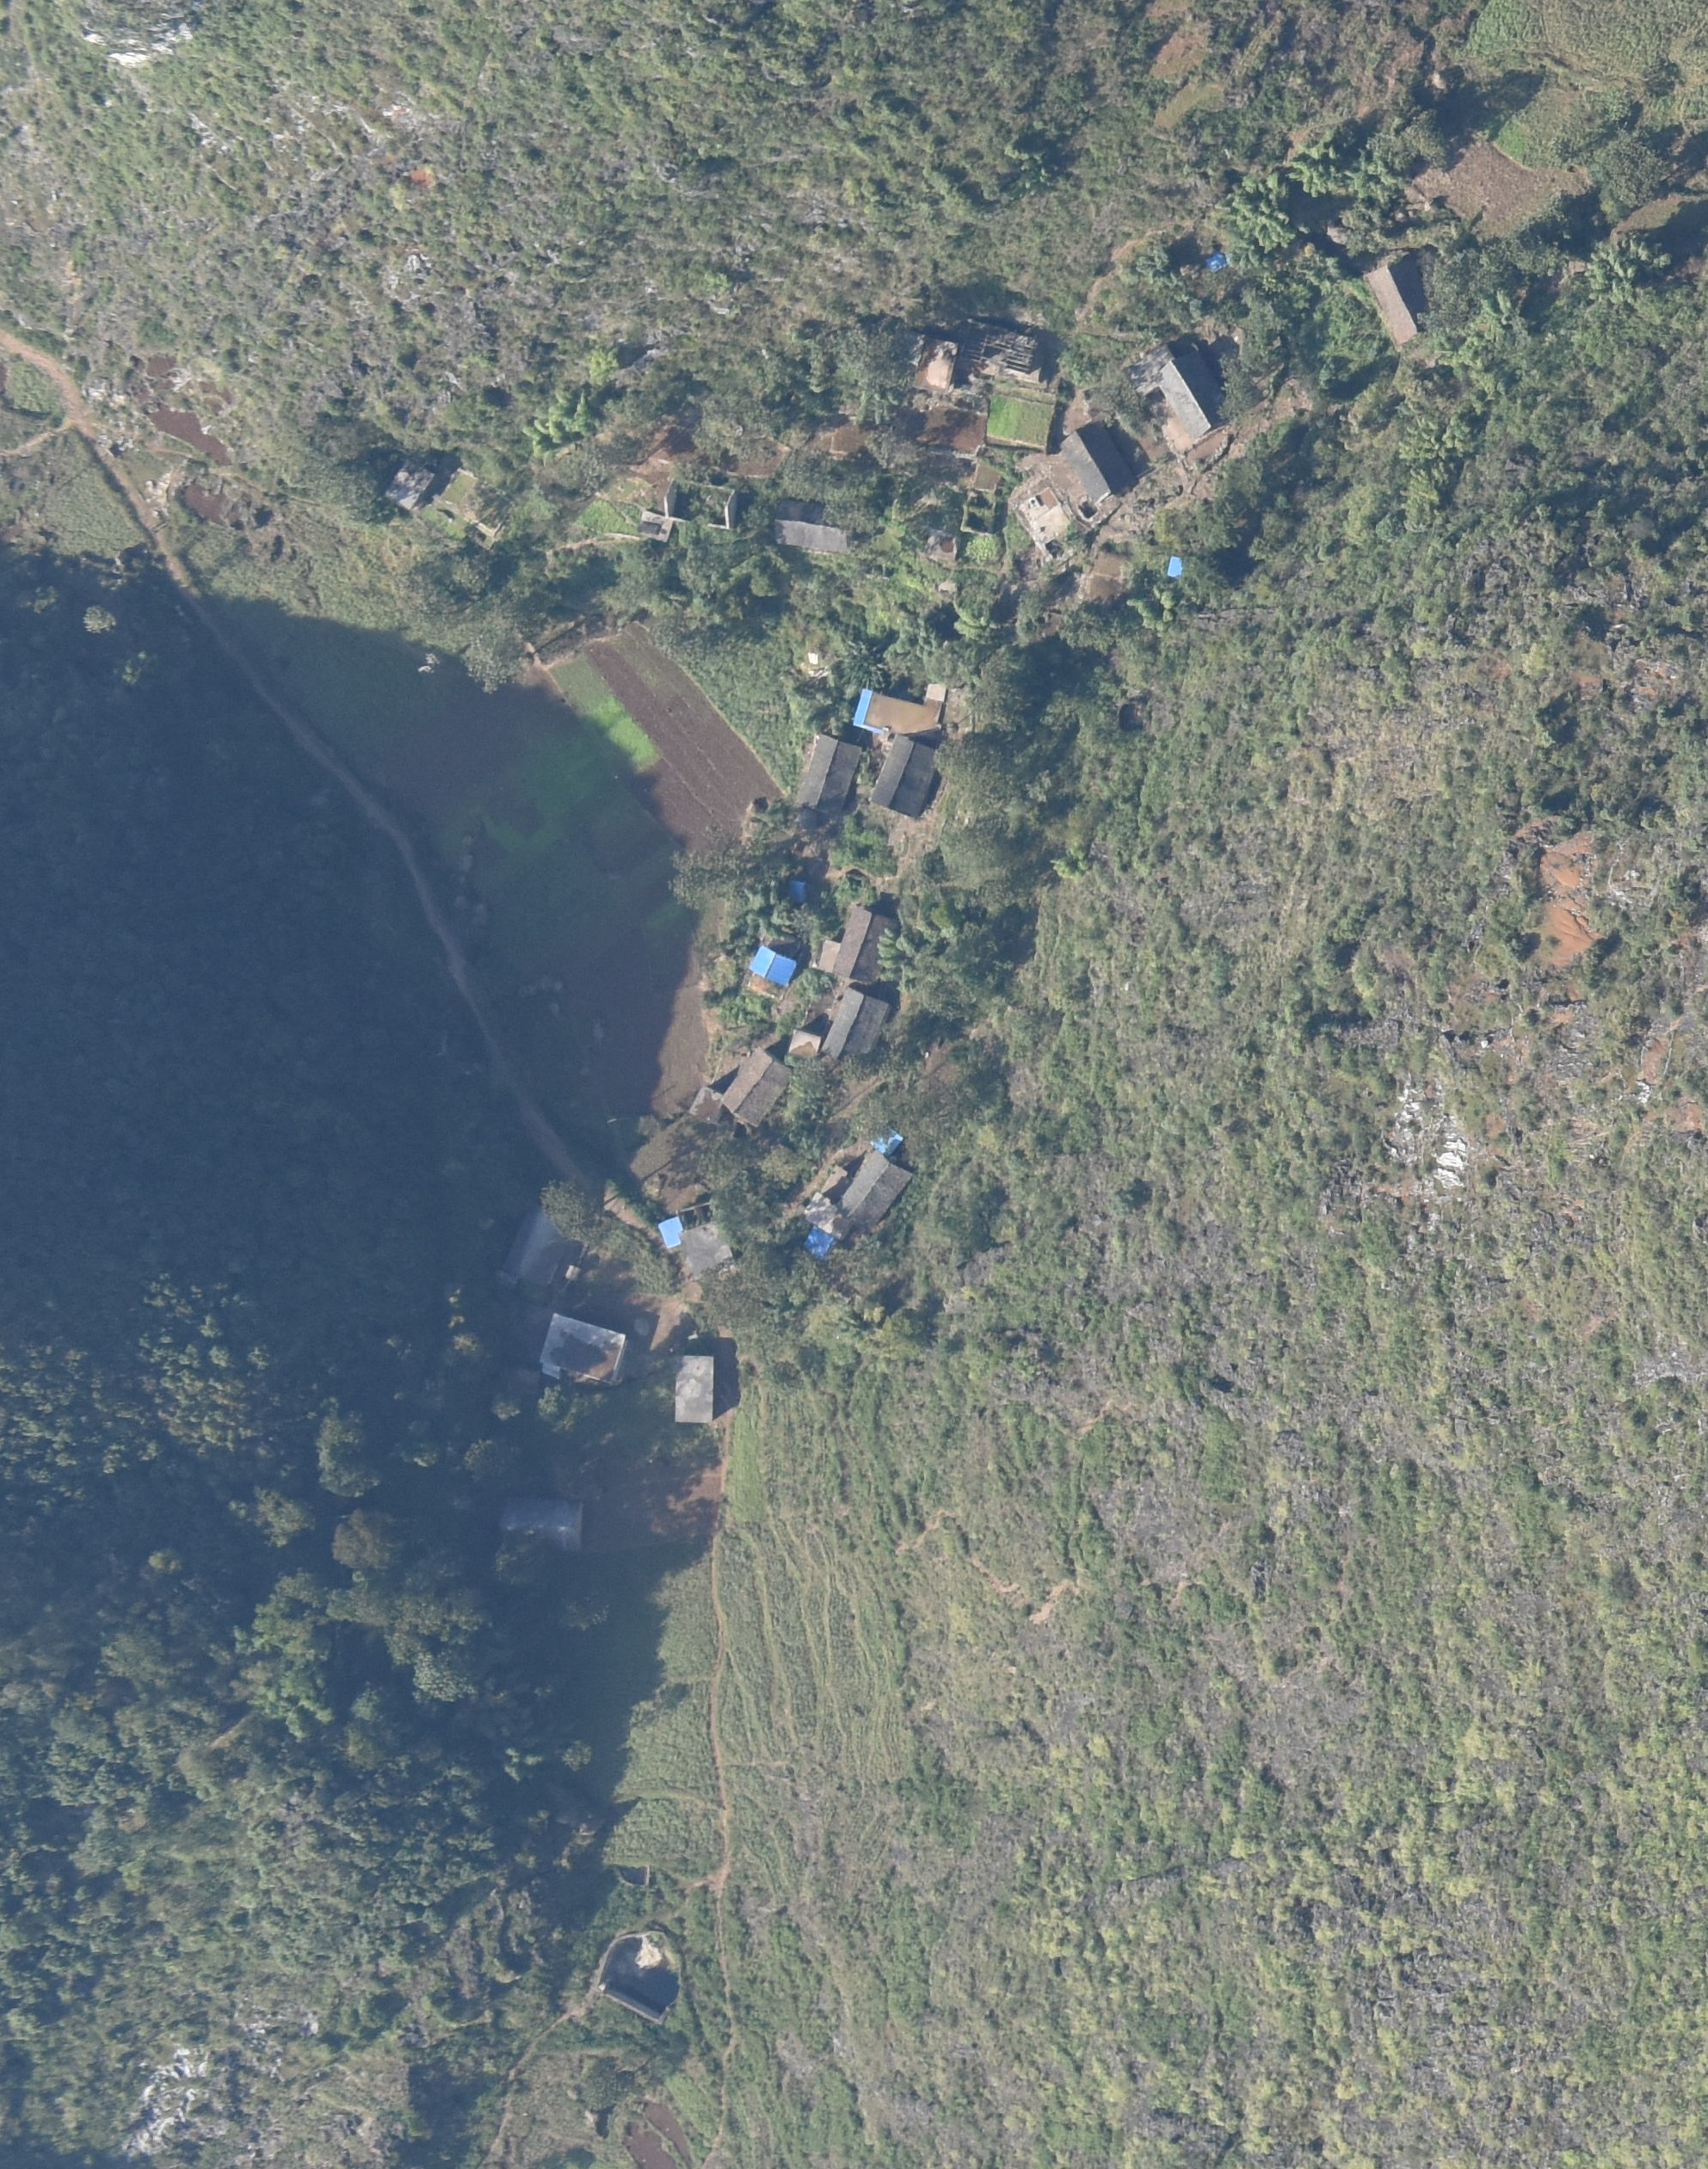building: (1141, 338, 1229, 437), (821, 900, 894, 984), (542, 1312, 623, 1386), (872, 739, 939, 822), (1060, 417, 1127, 496), (794, 734, 858, 815), (495, 1496, 585, 1553), (1368, 264, 1426, 343), (840, 1157, 907, 1225), (768, 500, 854, 553), (727, 1049, 785, 1127), (821, 989, 886, 1058), (856, 692, 946, 741), (896, 329, 958, 391), (681, 1222, 734, 1276), (386, 460, 437, 516), (676, 1356, 713, 1424), (805, 1192, 854, 1239), (688, 1086, 727, 1132), (785, 1032, 821, 1063)
prefabricated-house: (748, 947, 798, 998), (801, 1227, 838, 1262), (868, 1125, 907, 1155), (657, 1217, 685, 1248)
